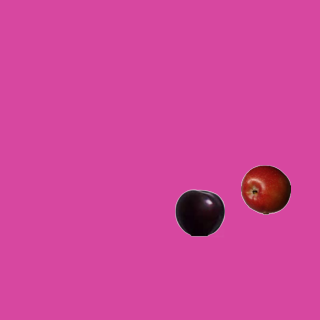Apple Braeburn: (240, 164, 290, 214)
Cherry Wax Black: (174, 187, 224, 237)
